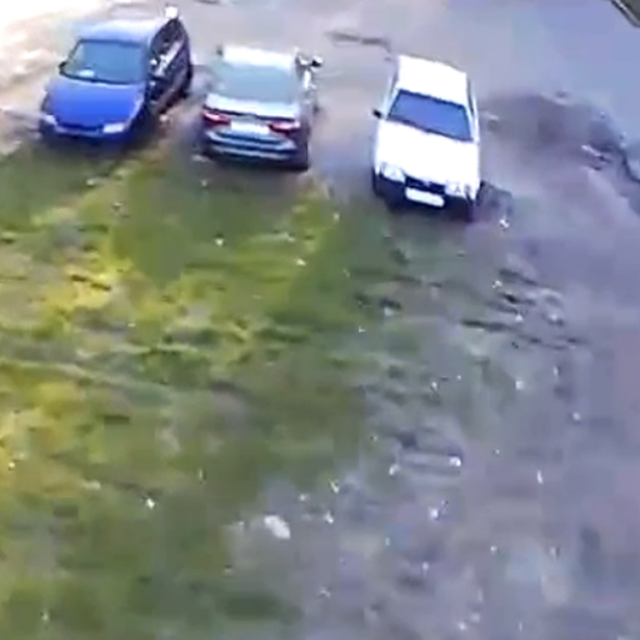car: (37, 14, 193, 143), (371, 54, 482, 219), (194, 40, 318, 169)
